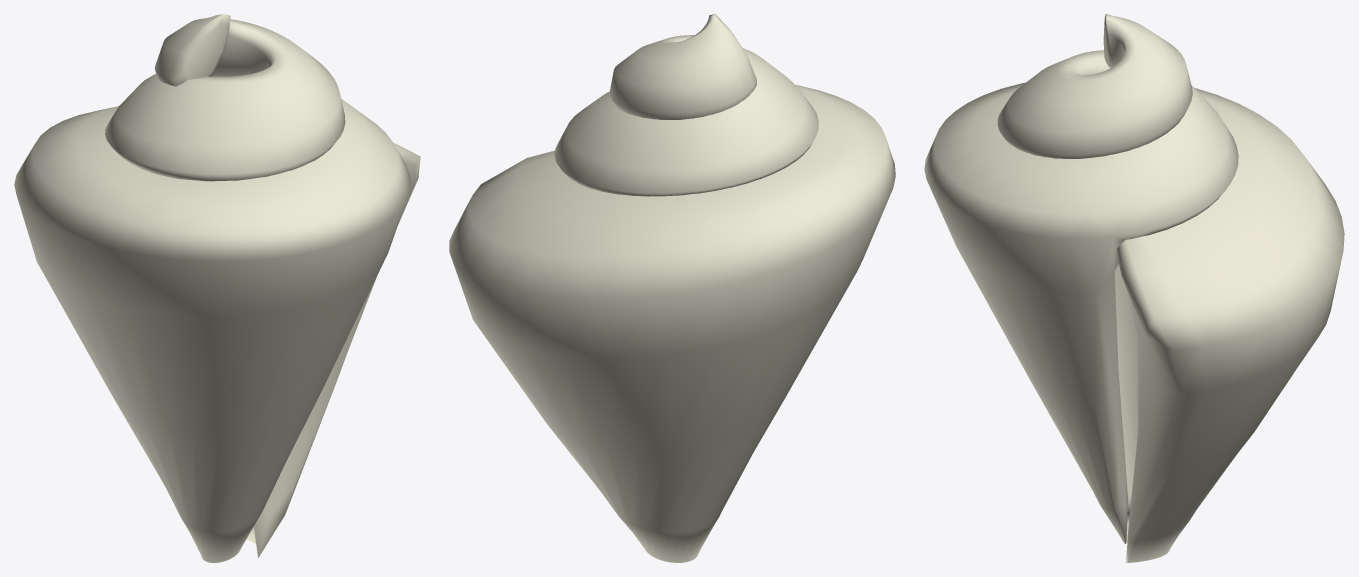
File: seashell.fbx
The picture shows the model from 3 angles, left to right: view 1: azimuth 30°, elevation 25°; view 2: azimuth 150°, elevation 25°; view 3: azimuth 270°, elevation 25°; orthographic projection. The views are drawn at different scales.
Parts seen in each view (by area): view 1: pHelix1; view 2: pHelix1; view 3: pHelix1.
Boxes of the visible parts, bbox=[...] form: pHelix1: bbox=[14, 14, 420, 562]; pHelix1: bbox=[449, 14, 895, 562]; pHelix1: bbox=[924, 14, 1344, 562].
Bounding box in the file's own units: 5.78 × 7.78 × 5.61.
